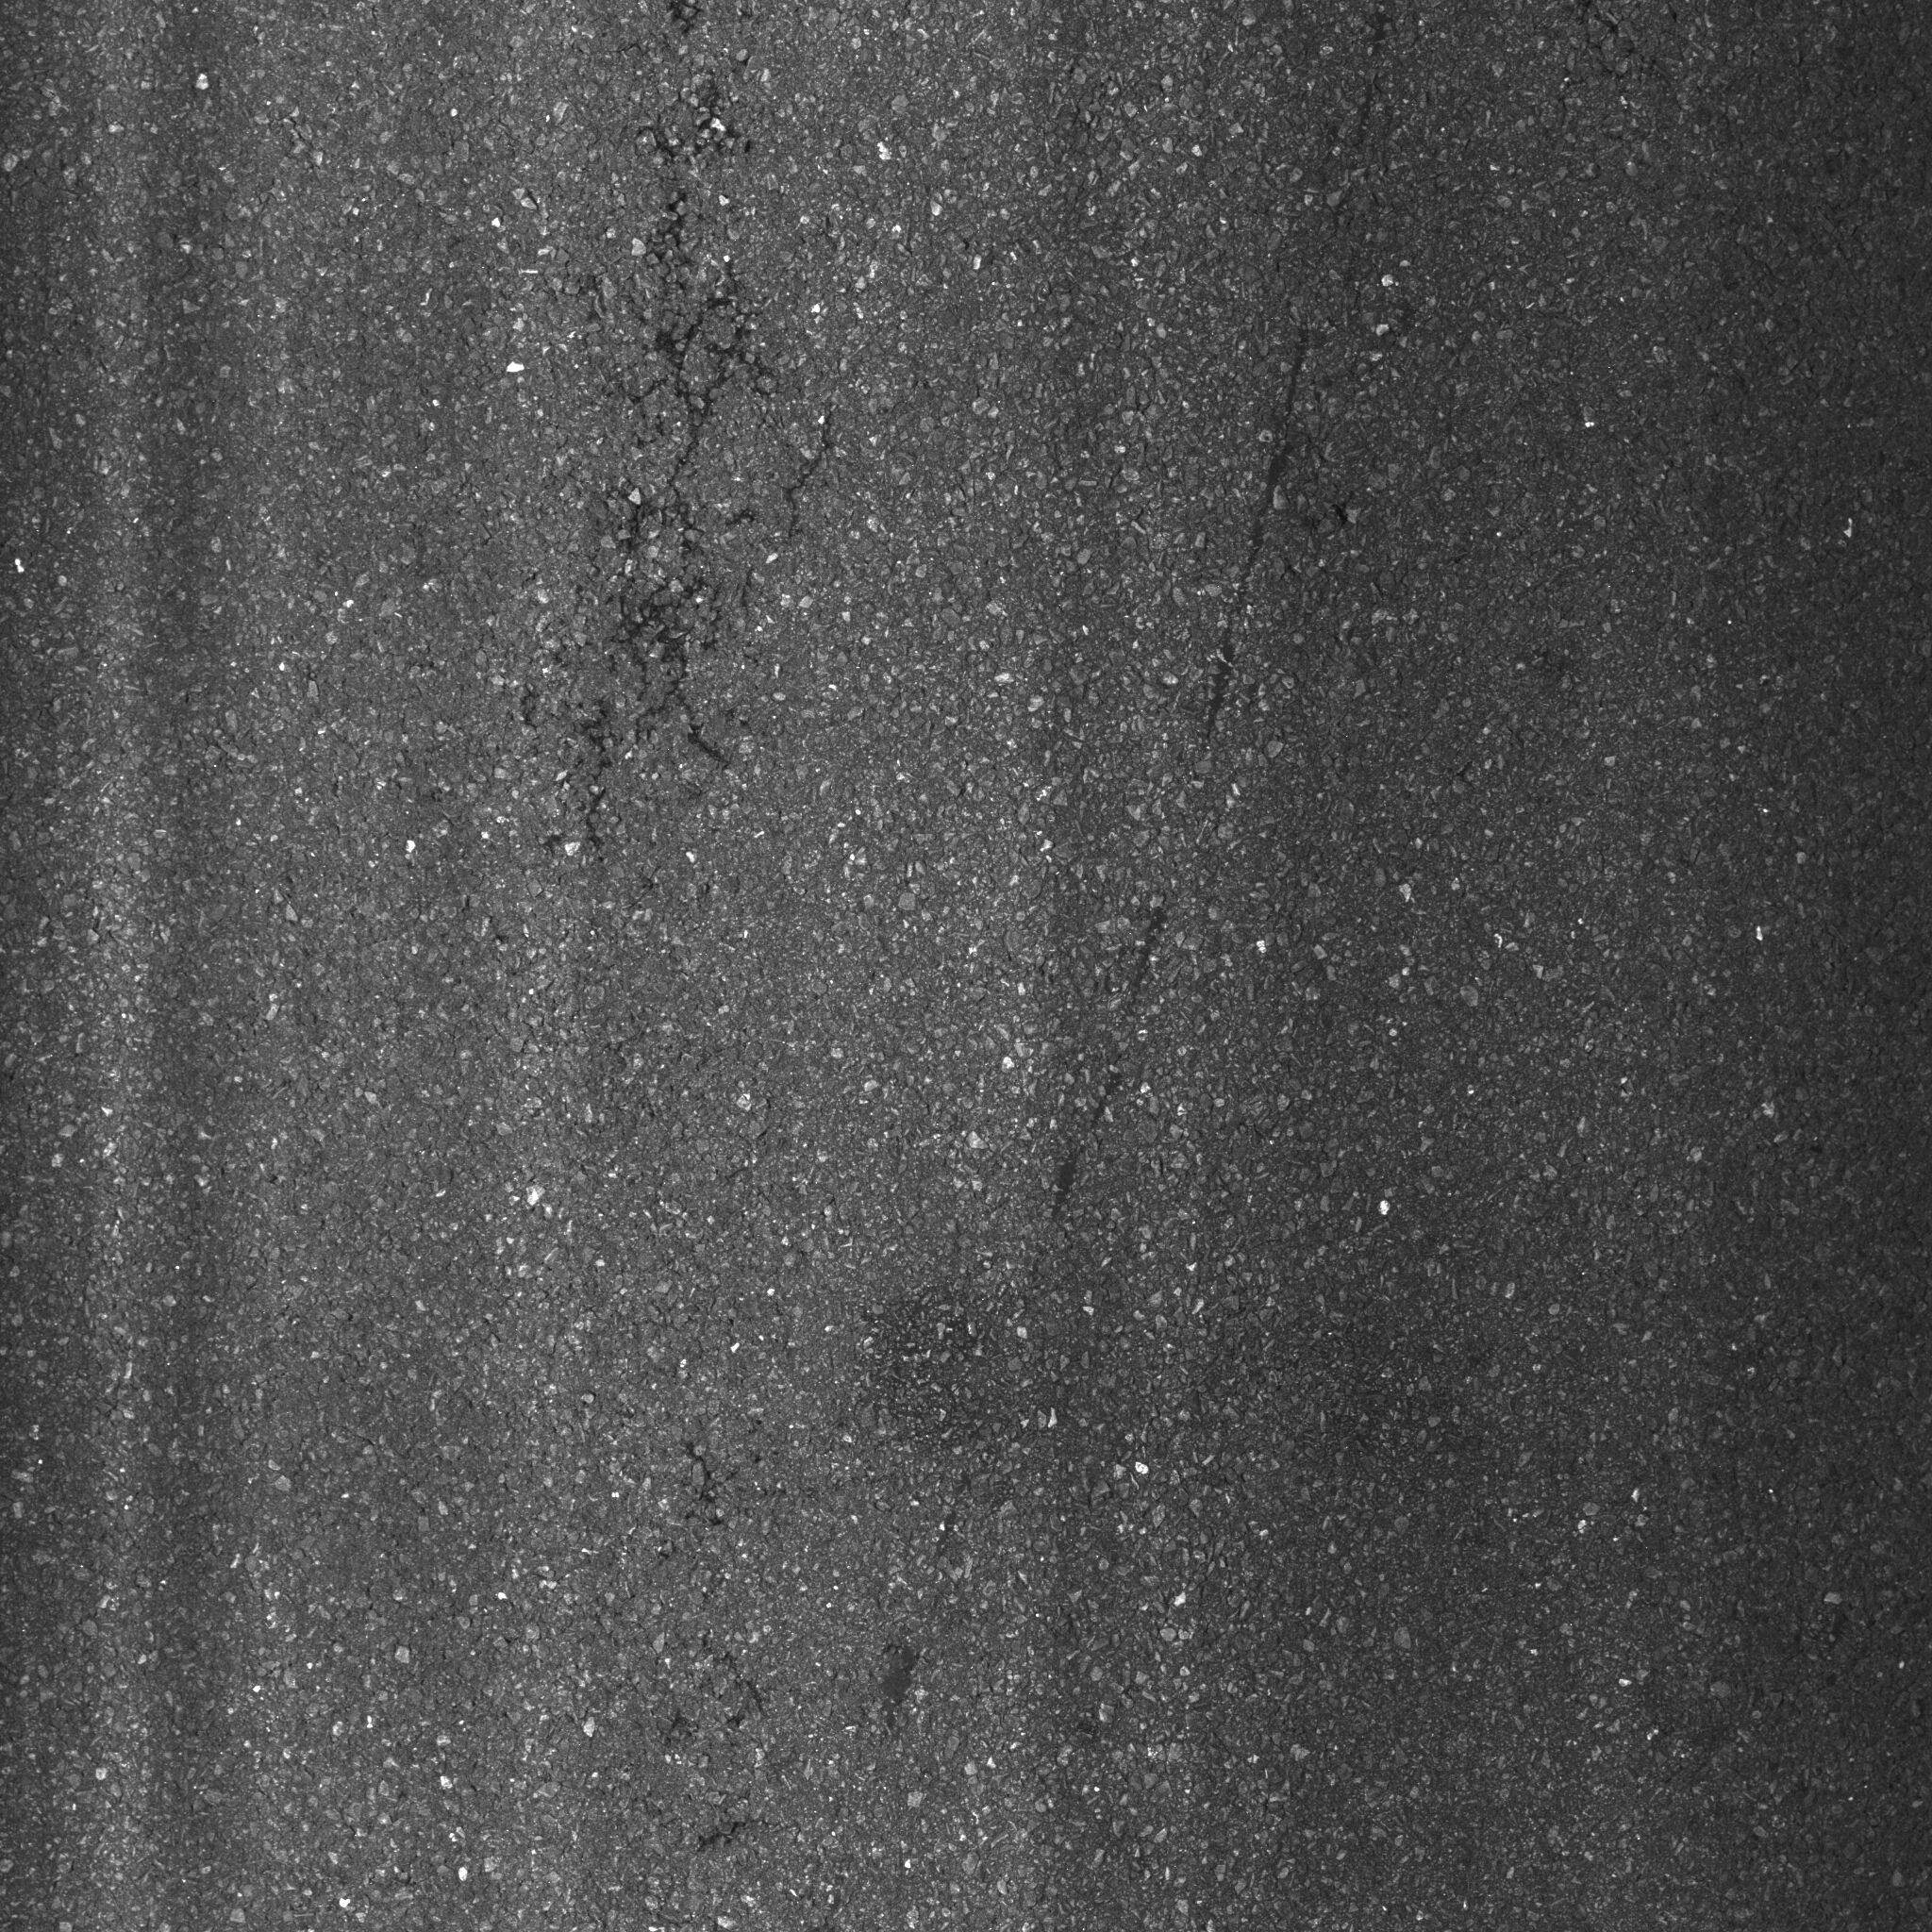alligator: (451, 18, 893, 904)
